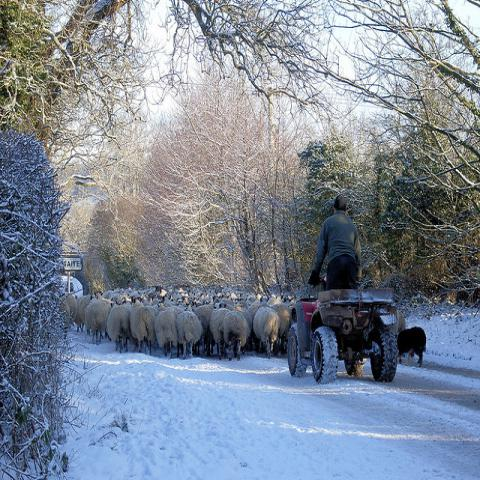truck: (283, 290, 399, 383)
